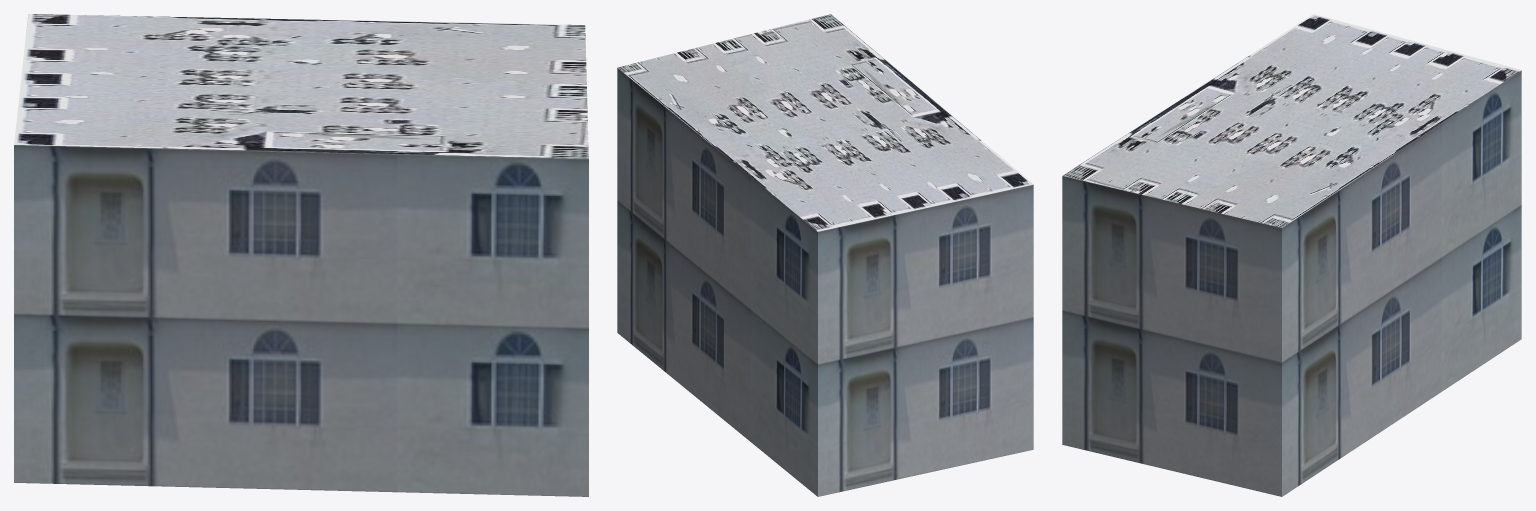
File: ResTex__791.fbx
The picture shows the model from 3 angles, left to right: view 1: azimuth 30°, elevation 25°; view 2: azimuth 150°, elevation 25°; view 3: azimuth 270°, elevation 25°; orthographic projection. The views are drawn at different scales.
Parts seen in each view (by area): view 1: CityEngineMaterial_17_m, CityEngineMaterial_m; view 2: CityEngineMaterial_17_m, CityEngineMaterial_m; view 3: CityEngineMaterial_17_m, CityEngineMaterial_m.
Part boxes in pixels (box(x1,y1,x2,y2)): CityEngineMaterial_17_m: box(14, 145, 588, 496); CityEngineMaterial_m: box(14, 14, 588, 158); CityEngineMaterial_17_m: box(617, 68, 1033, 496); CityEngineMaterial_m: box(617, 14, 1033, 231); CityEngineMaterial_17_m: box(1062, 70, 1521, 496); CityEngineMaterial_m: box(1062, 14, 1521, 227).
Bounding box in the file's own units: 10.24 × 6 × 9.29.
2 materials, 2 textured.
